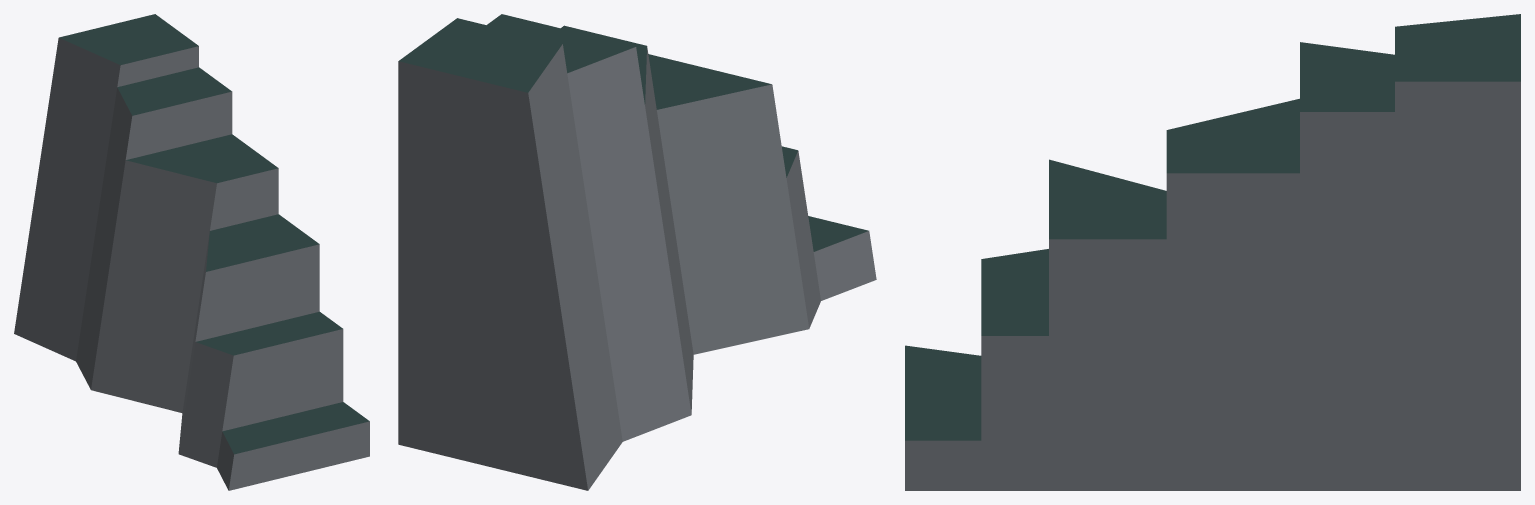
The model's file is Grey_Cliff_End_Green_Top_01.obj.
3 views of the same model, side by side, from view 1: azimuth 30°, elevation 25°; view 2: azimuth 150°, elevation 25°; view 3: azimuth 270°, elevation 25° (orthographic). The views are drawn at different scales.
Visible parts, largest first — view 1: Mesh1_Grey_Cliff_End_Green_Top_Model; view 2: Mesh1_Grey_Cliff_End_Green_Top_Model; view 3: Mesh1_Grey_Cliff_End_Green_Top_Model.
Part boxes in pixels (<box>): Mesh1_Grey_Cliff_End_Green_Top_Model: <box>14,14,369,490</box>; Mesh1_Grey_Cliff_End_Green_Top_Model: <box>398,14,876,490</box>; Mesh1_Grey_Cliff_End_Green_Top_Model: <box>905,14,1520,490</box>.
Size of the model in its own units: 1.14 by 2.2 by 3.
